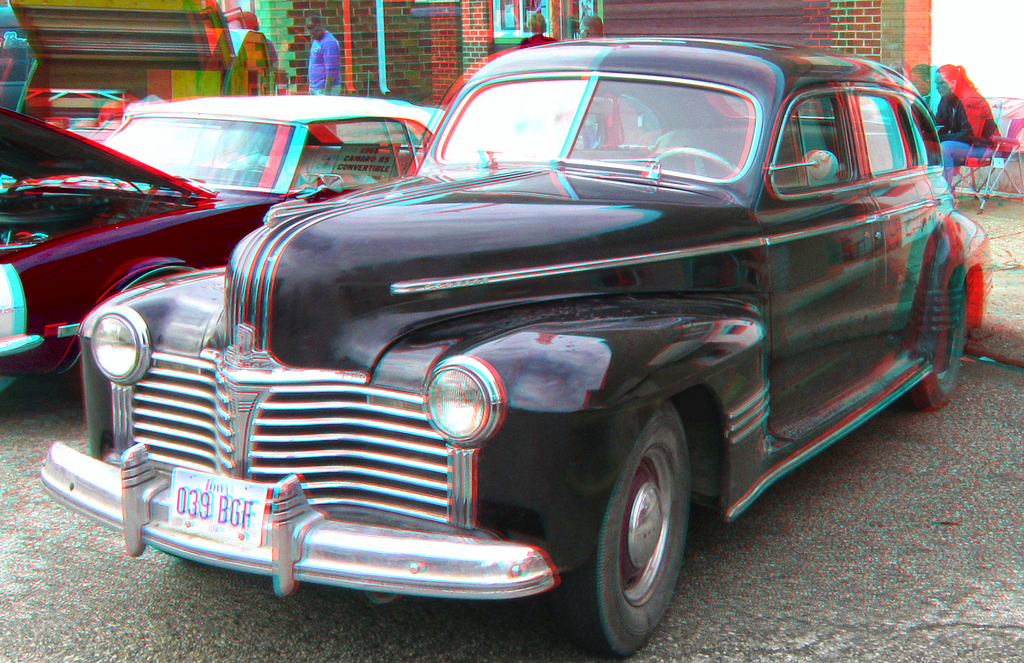Car: (41, 51, 985, 638), (0, 89, 446, 388)
